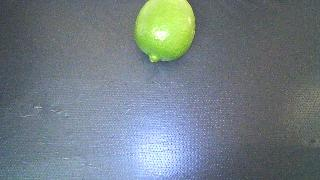EXPORTACION: (134, 0, 195, 62)
